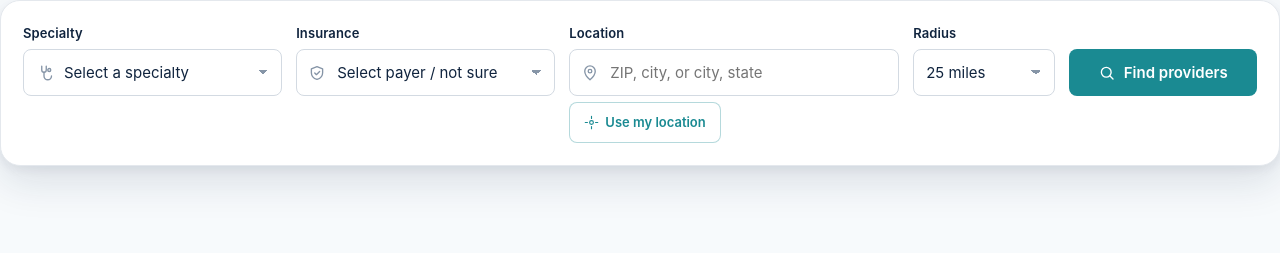
it: SearchForm › shows a helpful message when geolocation permission is denied
Click the button "Use my location". click: click(645, 122)
box: [569,102,721,142]
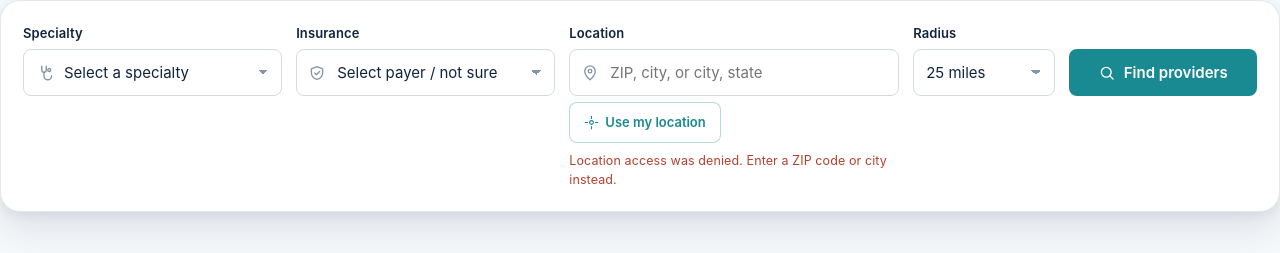
expect the message shows "denied": met, box [569,152,887,187]
